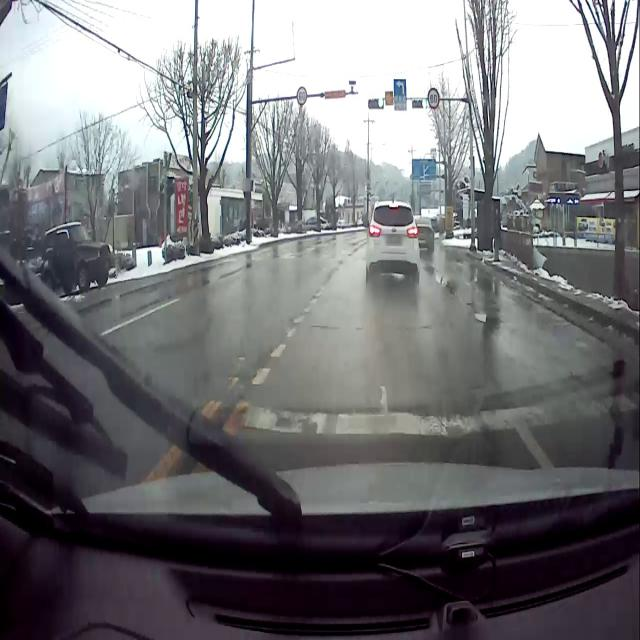Green Light: (377, 96, 384, 111), (421, 97, 427, 109)
